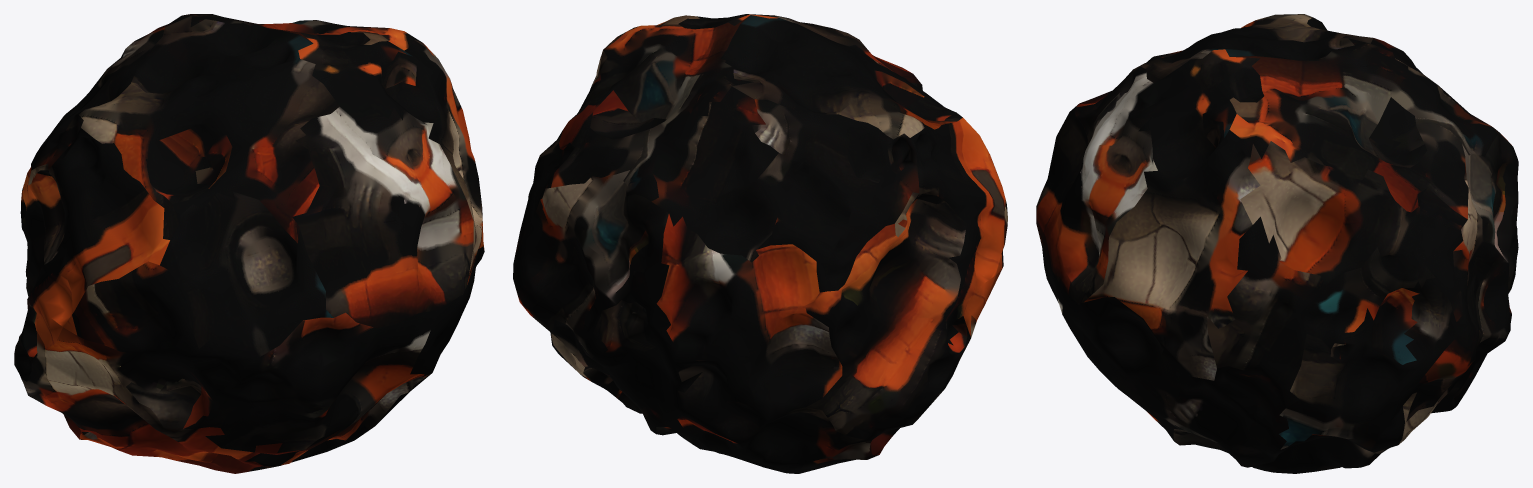
The model's file is Asteroid 1.fbx.
3 views of the same model, side by side, from view 1: azimuth 30°, elevation 25°; view 2: azimuth 150°, elevation 25°; view 3: azimuth 270°, elevation 25° (orthographic). The views are drawn at different scales.
Visible parts, largest first — view 1: node_6dfa7e23_17ee_440d_8123_cc275303f65f_mesh0; view 2: node_6dfa7e23_17ee_440d_8123_cc275303f65f_mesh0; view 3: node_6dfa7e23_17ee_440d_8123_cc275303f65f_mesh0.
Part boxes in pixels (x1,y1,x2,y2): node_6dfa7e23_17ee_440d_8123_cc275303f65f_mesh0: (14,14,484,473); node_6dfa7e23_17ee_440d_8123_cc275303f65f_mesh0: (513,14,1007,473); node_6dfa7e23_17ee_440d_8123_cc275303f65f_mesh0: (1036,14,1518,473).
Bounding box in the file's own units: 99.34 × 96 × 99.37.
